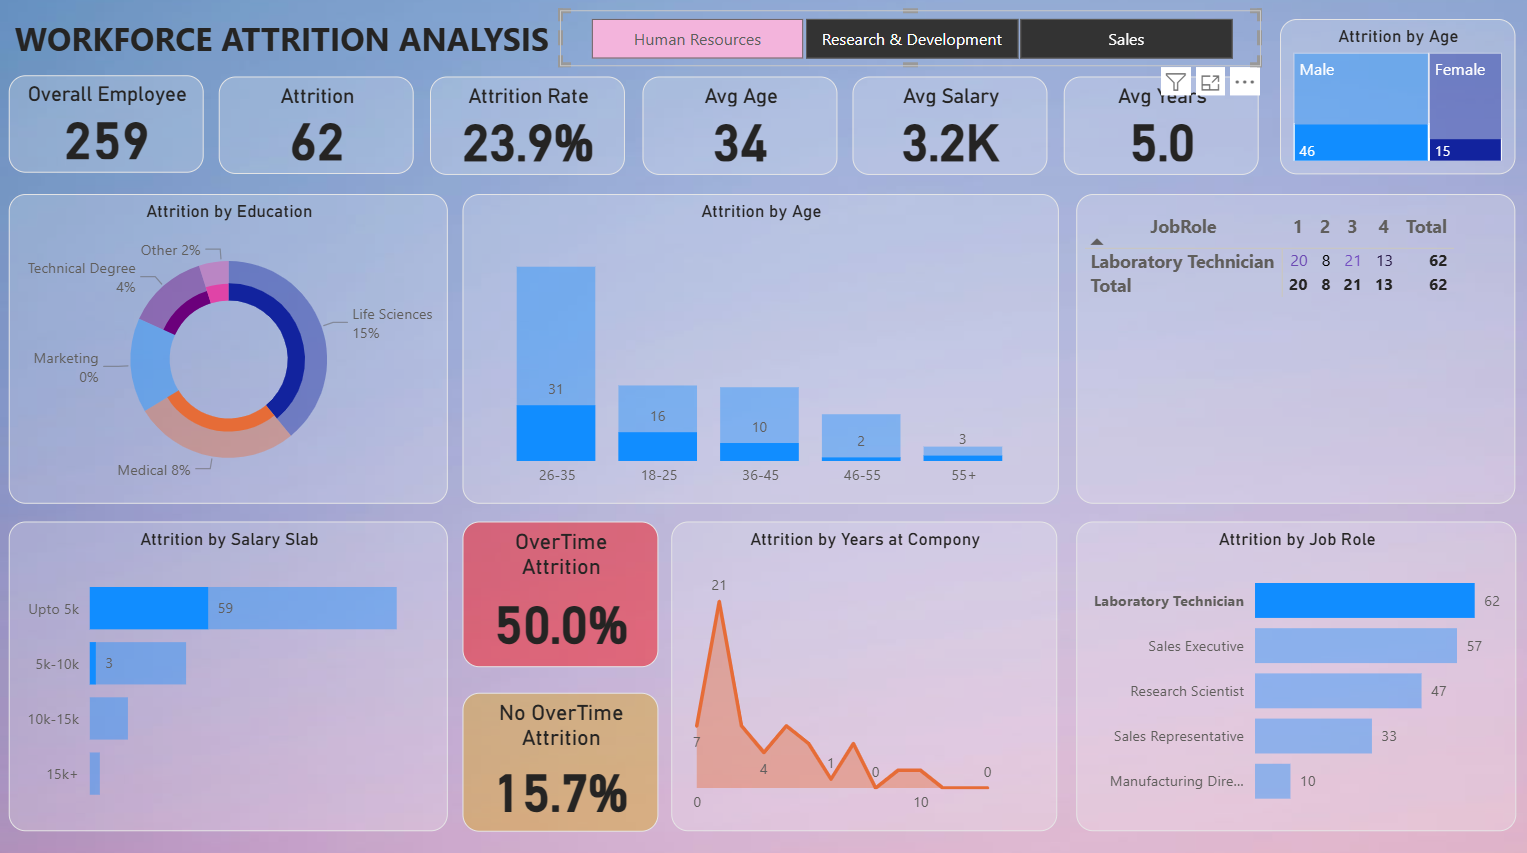

The dashboard page shown, as its layout file describes it:
{"tool":"powerbi","page":{"name":"Page 1","canvas":[1280,720],"ordinal":0},"visuals":[{"type":"card","title":"Overall Employee","fields":{"Values":["Count(HR_Analytics.EmpID)"]},"box":[15.8,71.6,161.9,81],"z":0},{"type":"card","title":"Attrition","fields":{"Values":["Sum(HR_Analytics.Attrition Count)"]},"box":[190.1,72.9,161.9,81],"z":1000},{"type":"card","title":"Attrition Rate","fields":{"Values":["HR_Analytics.AttritionRate"]},"box":[365,72.7,161.9,81.2],"z":2000},{"type":"card","title":"Avg Age","fields":{"Values":["Avg(HR_Analytics.Age)"]},"box":[540.6,72.7,161.9,81.2],"z":3000},{"type":"card","title":"Avg Salary","fields":{"Values":["Avg(HR_Analytics.MonthlyIncome)"]},"box":[715,72.7,161.9,81.2],"z":4000},{"type":"card","title":"Avg Years","fields":{"Values":["Avg(HR_Analytics.YearsAtCompany)"]},"box":[890,72.7,161.9,81.2],"z":5000},{"type":"donutChart","title":"Attrition by Education","fields":{"Category":["HR_Analytics.EducationField"],"Y":["Sum(HR_Analytics.Attrition Count)"]},"box":[15.7,170,364.3,257.1],"z":6000},{"type":"columnChart","title":"Attrition by Age","fields":{"Category":["HR_Analytics.AgeGroup"],"Y":["Sum(HR_Analytics.Attrition Count)"]},"box":[391.4,170,494.3,257.1],"z":7000},{"type":"pivotTable","fields":{"Rows":["HR_Analytics.JobRole"],"Columns":["HR_Analytics.JobSatisfaction"],"Values":["Sum(HR_Analytics.Attrition Count)"]},"box":[900.2,170.2,363.6,256.6],"z":8000},{"type":"barChart","title":"Attrition by Salary Slab","fields":{"Category":["HR_Analytics.SalarySlab"],"Y":["Sum(HR_Analytics.Attrition Count)"]},"box":[15.7,441.4,364.3,257.1],"z":9000},{"type":"clusteredBarChart","title":"Attrition by Job Role","fields":{"Category":["HR_Analytics.JobRole"],"Y":["Sum(HR_Analytics.Attrition Count)"]},"box":[900.2,441.9,365,256.6],"z":10000},{"type":"areaChart","title":"Attrition by Years at Compony","fields":{"Category":["HR_Analytics.YearsAtCompany"],"Y":["Sum(HR_Analytics.Attrition Count)"]},"box":[565.1,441.8,320.1,256.7],"z":11000},{"type":"treemap","title":"Attrition by Age","fields":{"Group":["HR_Analytics.Gender"],"Values":["Sum(HR_Analytics.Attrition Count)"]},"box":[1069,24.7,194.9,129],"z":12000},{"type":"slicer","fields":{"Values":["HR_Analytics.Department"]},"box":[472.9,17.1,581.4,47.1],"z":13000},{"type":"textbox","box":[15.7,17.1,464.3,71.4],"z":14000},{"type":"card","title":"No OverTime Attrition","fields":{"Values":["HR_Analytics.Attrition Rate (OverTime No)"]},"box":[391.5,583.1,162.3,115.4],"z":15000},{"type":"card","title":"OverTime  Attrition","fields":{"Values":["HR_Analytics.Attrition Rate (OverTime Yes)"]},"box":[391.5,441.5,162.3,120.8],"z":16000}]}

Visuals, with their boxes in screenshot pixels (x1, y1, x2, y2), scaled from the page's 1280x720 canvas onto the 1527x853 screenshot:
"Overall Employee" card: region(19, 85, 212, 181)
"Attrition" card: region(227, 86, 420, 182)
"Attrition Rate" card: region(435, 86, 629, 182)
"Avg Age" card: region(645, 86, 838, 182)
"Avg Salary" card: region(853, 86, 1046, 182)
"Avg Years" card: region(1062, 86, 1255, 182)
"Attrition by Education" donutChart: region(19, 201, 453, 506)
"Attrition by Age" columnChart: region(467, 201, 1057, 506)
pivotTable - HR_Analytics.JobRole x HR_Analytics.JobSatisfaction: region(1074, 202, 1508, 506)
"Attrition by Salary Slab" barChart: region(19, 523, 453, 828)
"Attrition by Job Role" clusteredBarChart: region(1074, 524, 1509, 828)
"Attrition by Years at Compony" areaChart: region(674, 523, 1056, 828)
"Attrition by Age" treemap: region(1275, 29, 1508, 182)
slicer - HR_Analytics.Department: region(564, 20, 1258, 76)
textbox: region(19, 20, 573, 105)
"No OverTime Attrition" card: region(467, 691, 661, 828)
"OverTime  Attrition" card: region(467, 523, 661, 666)
